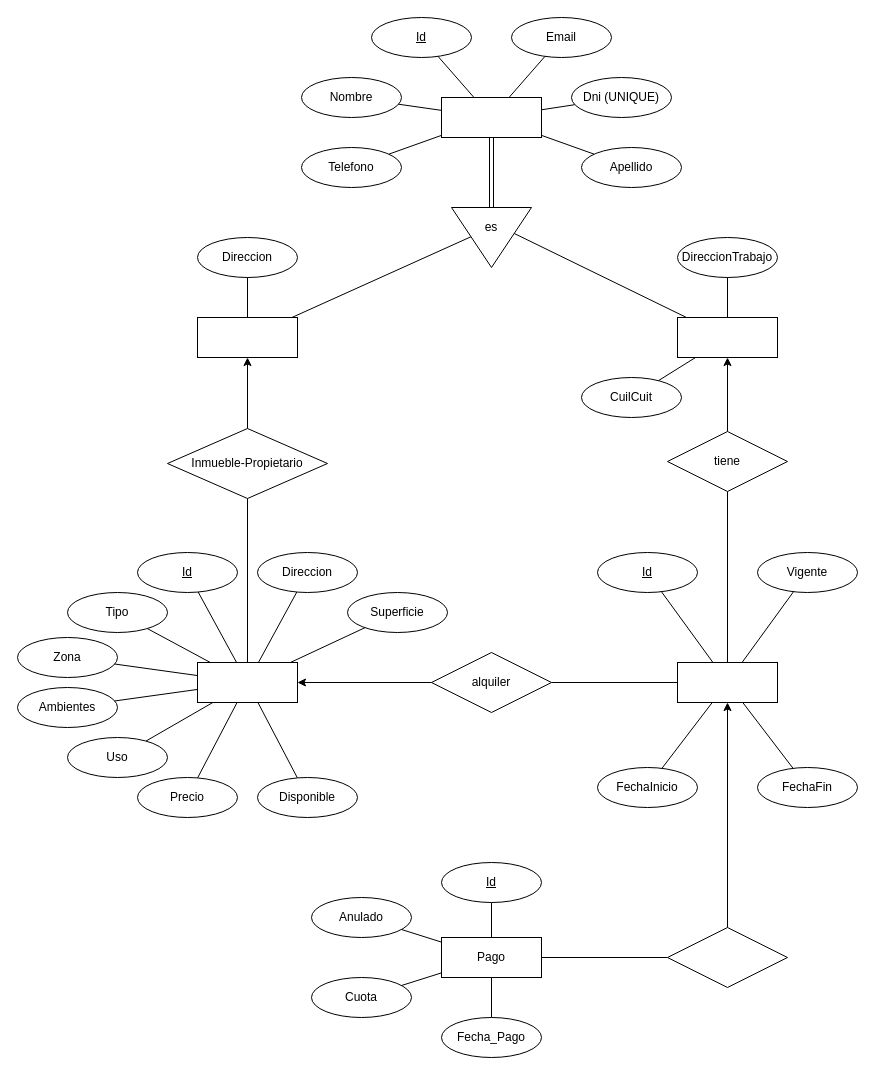
This 875x1075 diagram has some shape labels left out. The shapes that lost their labels are listed below. From the top down, each one's centre as x and y in pixels, then its label:
At (x=491, y=117): "Persona".
At (x=247, y=337): "Propietario".
At (x=727, y=337): "Inquilino".
At (x=247, y=682): "Inmueble".
At (x=727, y=682): "Contrato".
At (x=727, y=957): "pertenece".
